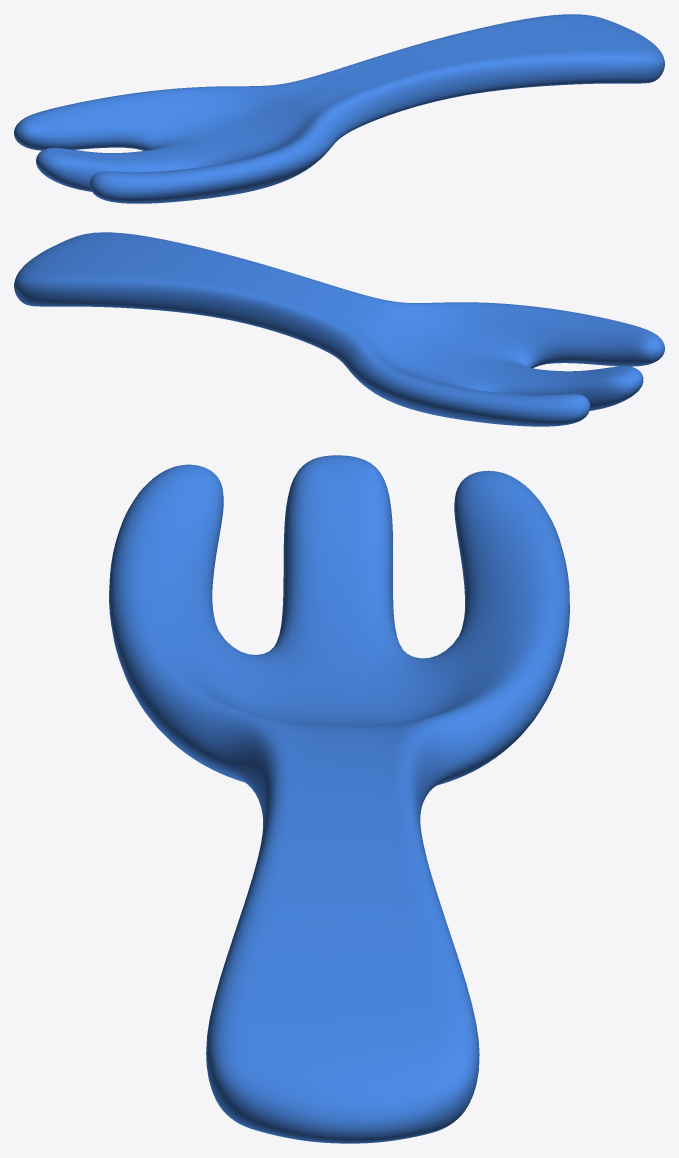
File: SM_Fork.fbx
3 renders of one model, top to bottom at view 1: azimuth 30°, elevation 25°; view 2: azimuth 150°, elevation 25°; view 3: azimuth 270°, elevation 25°, orthographic. The views are drawn at different scales.
Visible parts, largest first — view 1: SM_Fork; view 2: SM_Fork; view 3: SM_Fork.
Part boxes in pixels (x1,y1,x2,y2): SM_Fork: [14, 14, 664, 203]; SM_Fork: [14, 232, 664, 426]; SM_Fork: [109, 455, 569, 1143].
Bounding box in the file's own units: 57.37 × 5.93 × 18.67.
